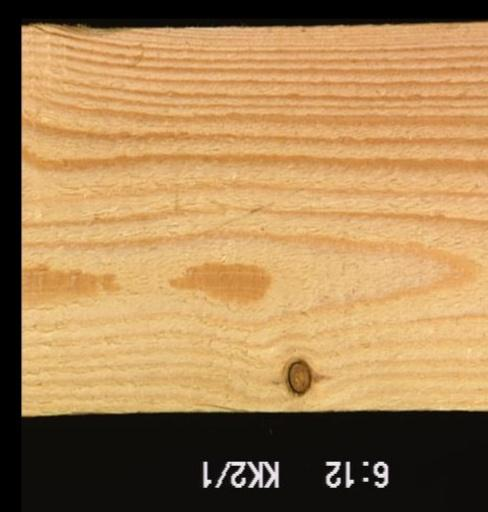dry_knot: (285, 359, 312, 396)
split: (186, 402, 244, 413)
wave: (20, 20, 137, 33)
